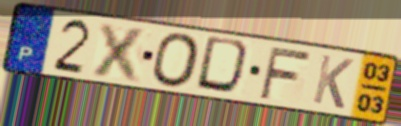2: (52, 18, 94, 76)
D: (193, 34, 256, 98)
F: (257, 44, 314, 101)
K: (309, 52, 356, 112)
O: (150, 31, 203, 89)
X: (88, 20, 152, 85)
